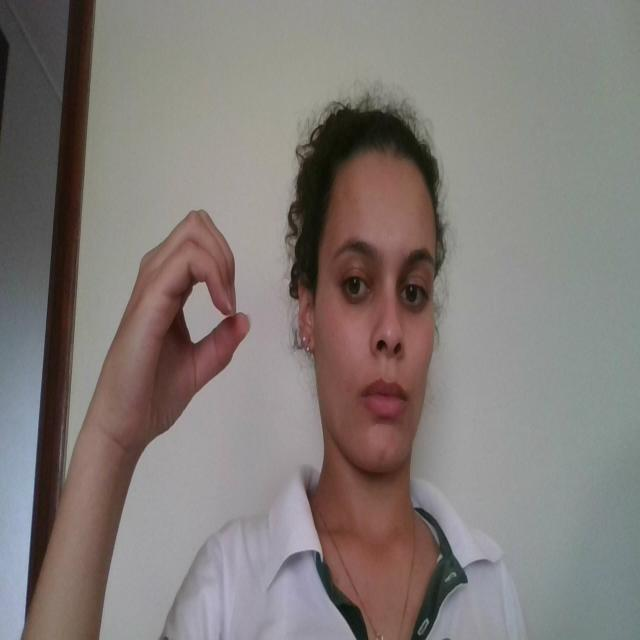O: (118, 205, 253, 438)
